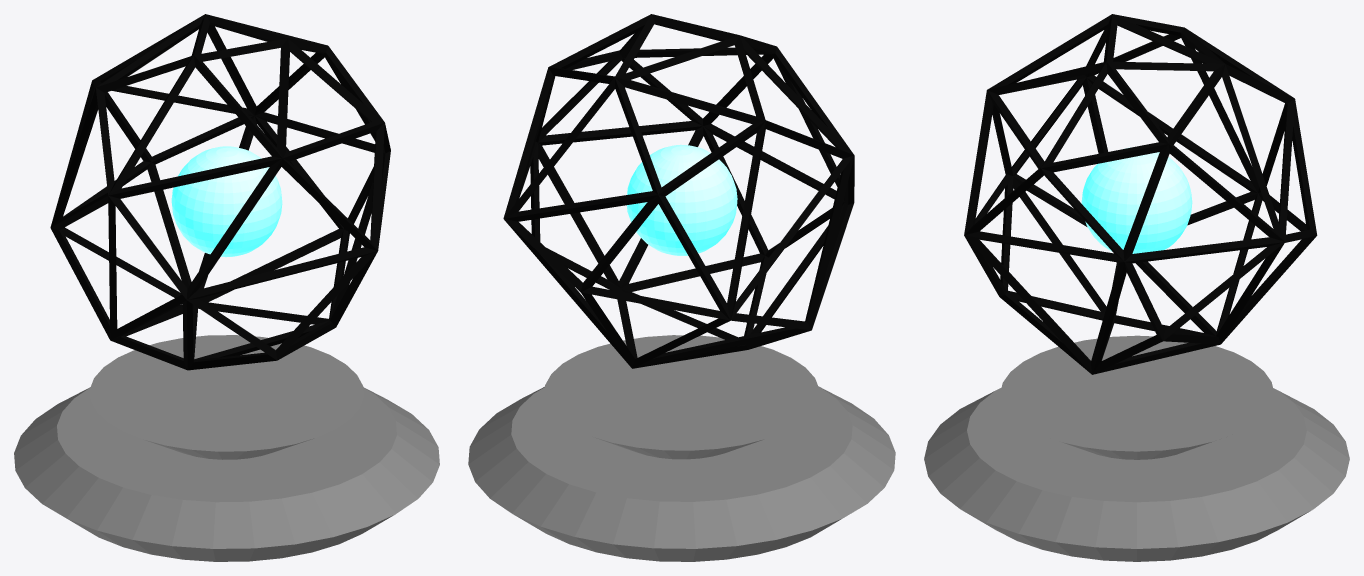
File: ProtectCore.fbx
3 views of the same model, side by side, from view 1: azimuth 30°, elevation 25°; view 2: azimuth 150°, elevation 25°; view 3: azimuth 270°, elevation 25° (orthographic).
Parts seen in each view (by area): view 1: Cylinder, Sphere, Cone, 球; view 2: Cylinder, Sphere, Cone, 球; view 3: Sphere, Cylinder, Cone, 球.
Boxes of the visible parts, x1=… form: Cylinder: x1=14, y1=387, x2=439, y2=561; Sphere: x1=50, y1=14, x2=390, y2=370; Cone: x1=89, y1=335, x2=363, y2=459; 球: x1=171, y1=146, x2=282, y2=257; Cylinder: x1=468, y1=386, x2=895, y2=561; Sphere: x1=503, y1=14, x2=854, y2=368; Cone: x1=544, y1=335, x2=819, y2=459; 球: x1=626, y1=144, x2=737, y2=255; Sphere: x1=964, y1=14, x2=1317, y2=374; Cylinder: x1=924, y1=387, x2=1349, y2=561; Cone: x1=1000, y1=335, x2=1274, y2=459; 球: x1=1081, y1=147, x2=1192, y2=253.
Bounding box in the file's own units: 250 × 295 × 250.
